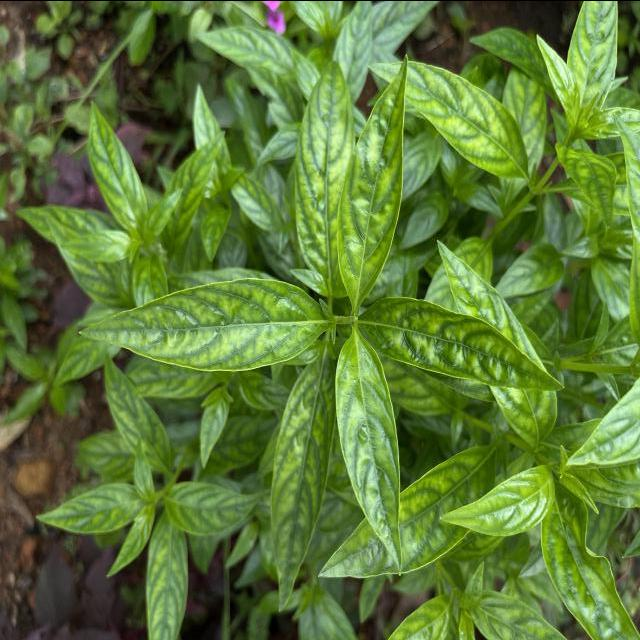Andrographis paniculata: (314, 441, 502, 582), (74, 272, 328, 373), (367, 51, 532, 180), (362, 290, 566, 393), (332, 53, 412, 308), (268, 357, 337, 615), (334, 332, 406, 577), (292, 47, 353, 290), (102, 352, 174, 478), (194, 24, 321, 94), (86, 97, 152, 231), (439, 460, 555, 536), (13, 204, 128, 264), (162, 477, 264, 538), (36, 481, 146, 537), (146, 512, 190, 640), (198, 385, 232, 469), (146, 187, 184, 240)
